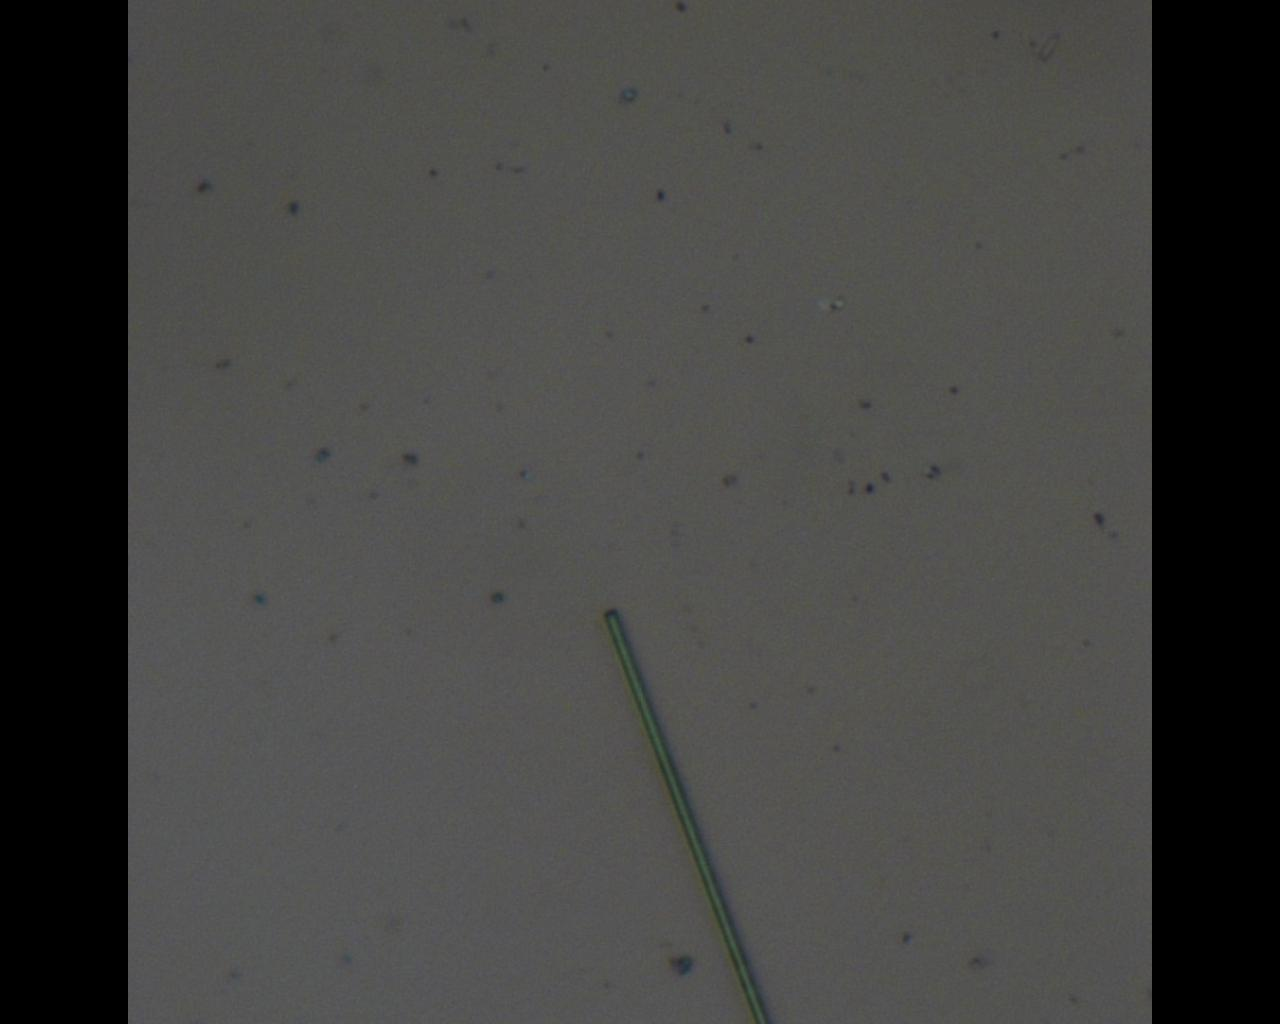fiber: (0, 471, 251, 1024), (926, 471, 1099, 1024), (114, 0, 263, 471)
